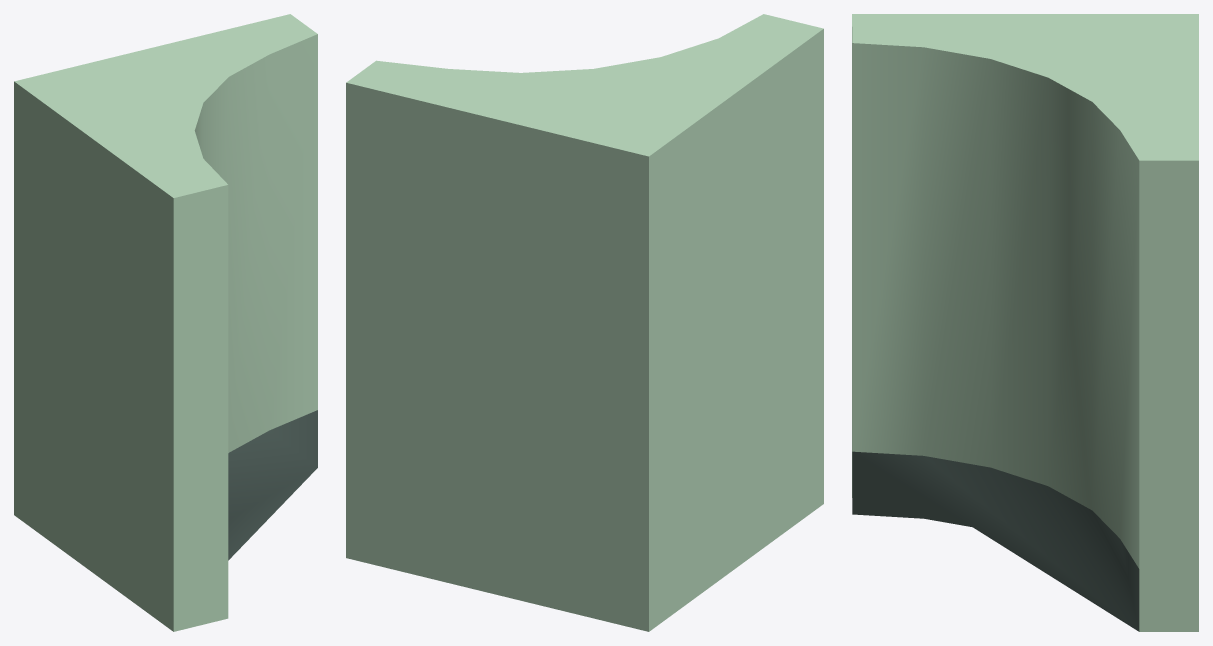
File: GroundCircle90DegreesConvex_Collider.fbx
The picture shows the model from 3 angles, left to right: view 1: azimuth 30°, elevation 25°; view 2: azimuth 150°, elevation 25°; view 3: azimuth 270°, elevation 25°; orthographic projection. The views are drawn at different scales.
Visible parts, largest first — view 1: GroundCircle90Degrees.003; view 2: GroundCircle90Degrees.003; view 3: GroundCircle90Degrees.003.
Boxes of the visible parts, box(x1,y1,x2,y2) form: GroundCircle90Degrees.003: box(14, 14, 317, 631); GroundCircle90Degrees.003: box(346, 14, 823, 631); GroundCircle90Degrees.003: box(852, 14, 1198, 631).
Size of the model in its own units: 1 by 1.5 by 1.
